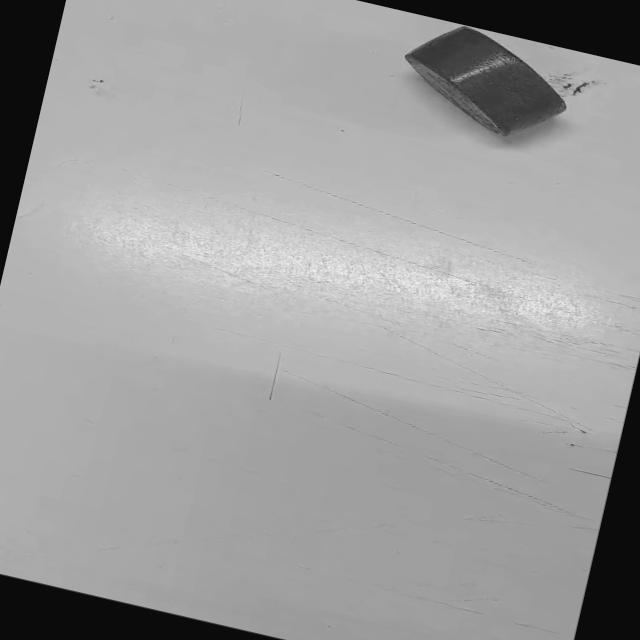rcircle: (404, 26, 565, 136)
